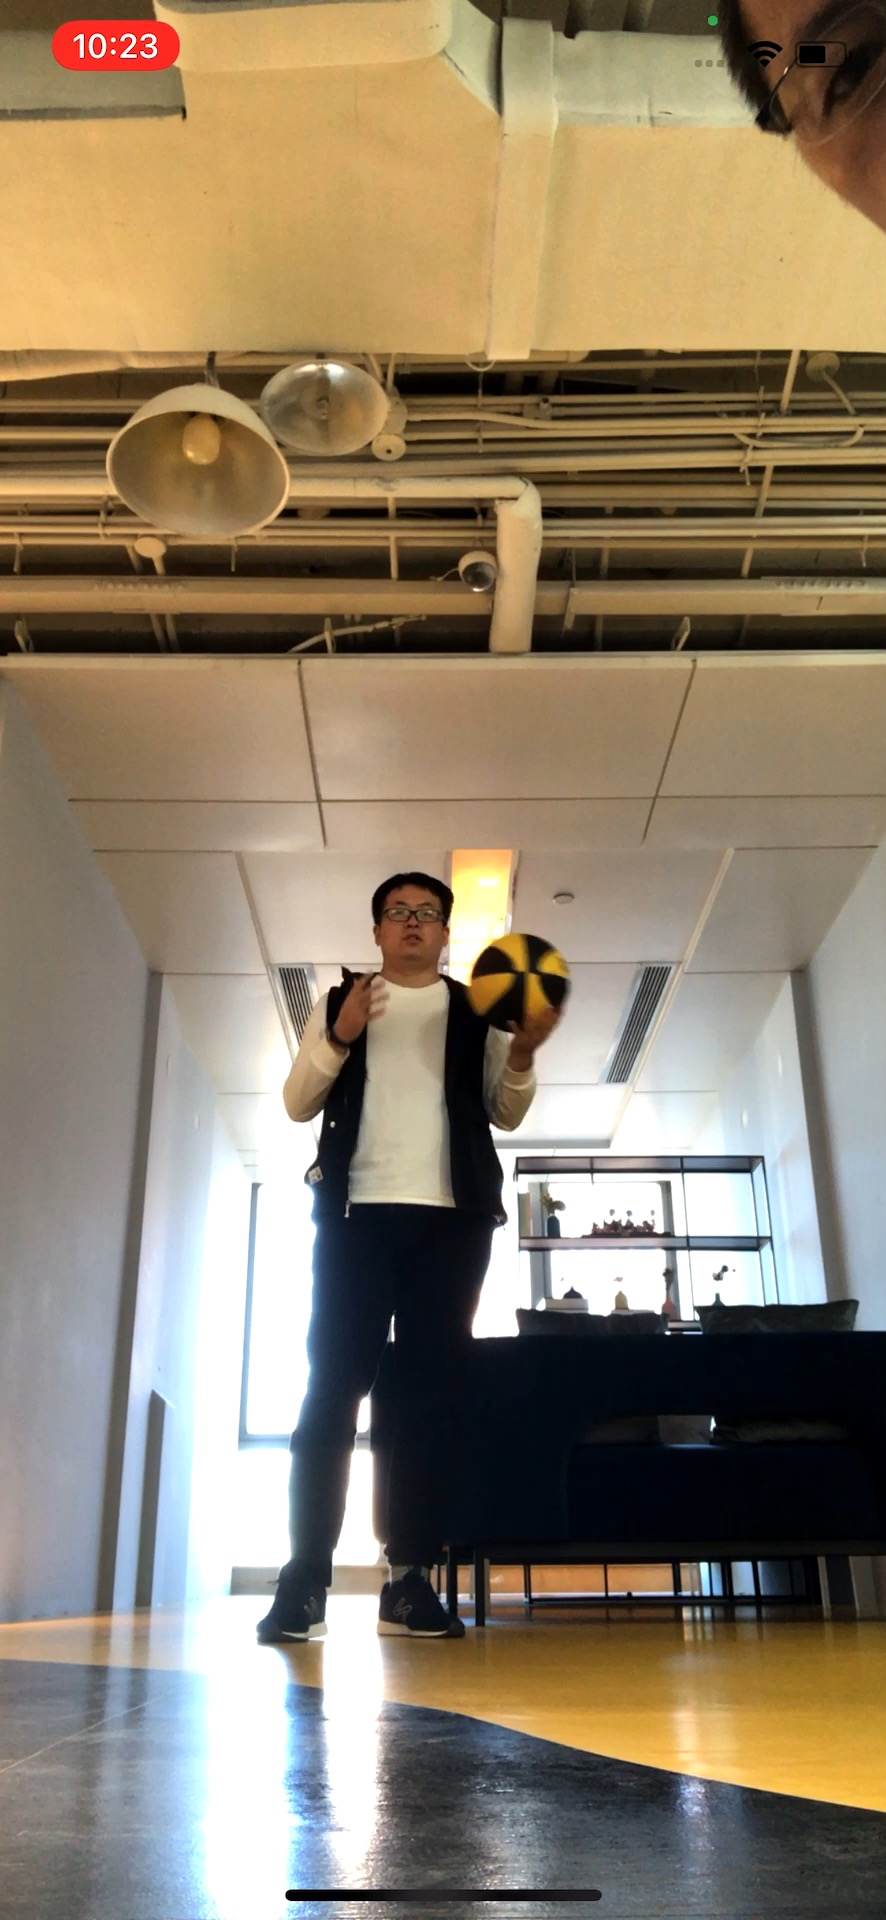ball: (470, 933, 574, 1031)
